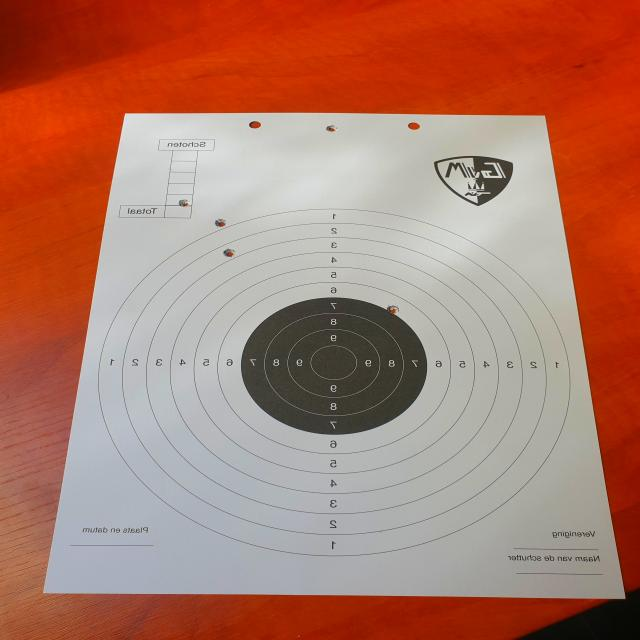0: (214, 218, 227, 229), (178, 198, 191, 208), (325, 124, 338, 133)
2: (222, 248, 237, 258)
7: (385, 304, 401, 316)
Target: (97, 207, 572, 558)
black_contour: (240, 297, 427, 435)
